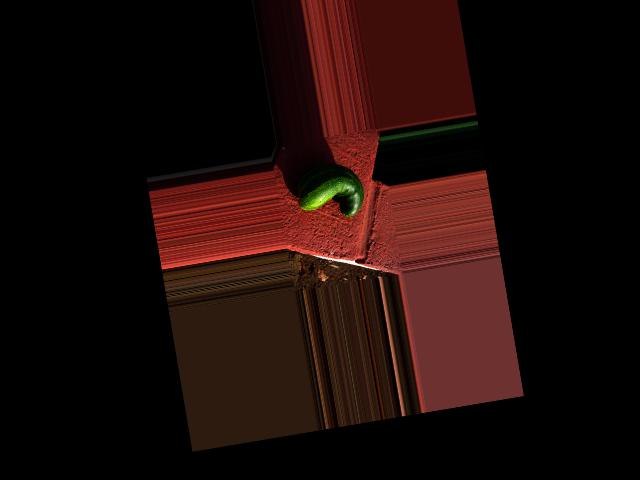cucumber: (293, 159, 367, 225)
